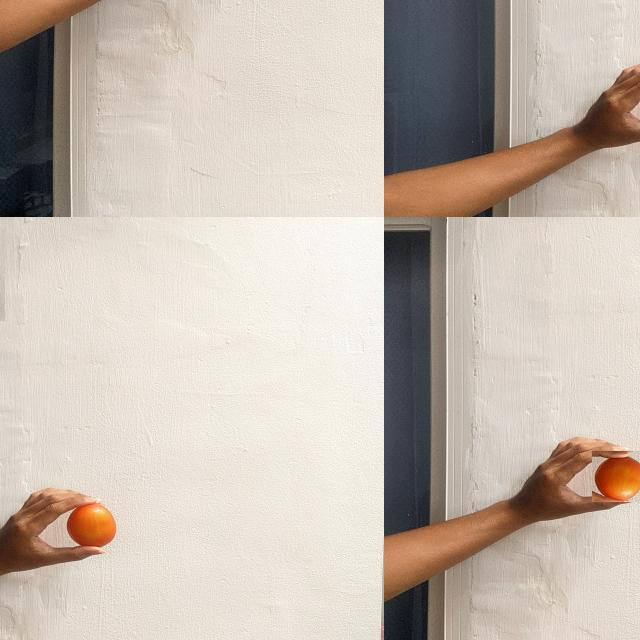Fresh Tomato: (591, 451, 640, 502)
